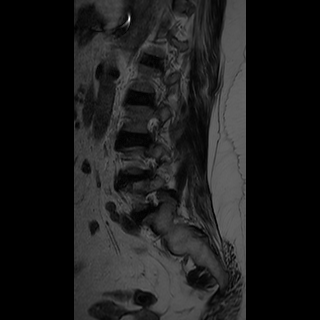LFS0: (139, 186, 165, 217)
